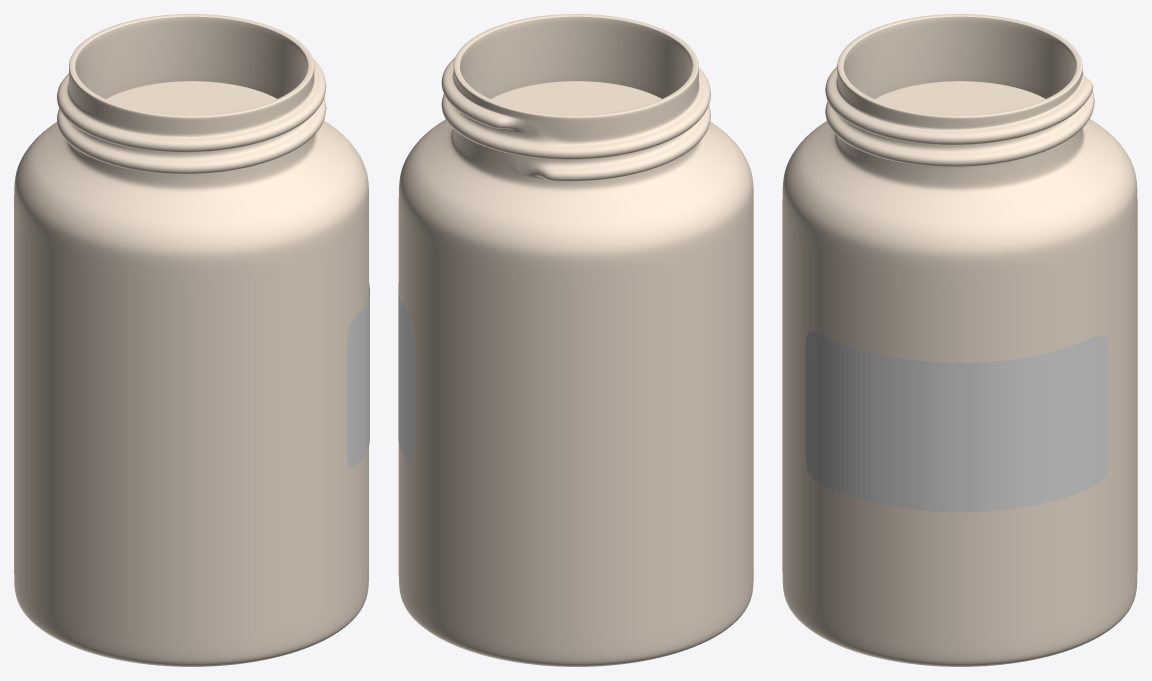
File: container_fenolftaleina_full.fbx
3 renders of one model, left to right at view 1: azimuth 30°, elevation 25°; view 2: azimuth 150°, elevation 25°; view 3: azimuth 270°, elevation 25°, orthographic.
Parts seen in each view (by area): view 1: Vial - Scintillation - 20 mL, Vial - Scintillation - 20 mL.002, Plane; view 2: Vial - Scintillation - 20 mL, Vial - Scintillation - 20 mL.002, Plane; view 3: Vial - Scintillation - 20 mL, Plane, Vial - Scintillation - 20 mL.002.
Boxes of the visible parts, <box> form: Vial - Scintillation - 20 mL: <box>14,14,368,666</box>; Vial - Scintillation - 20 mL.002: <box>106,81,276,114</box>; Plane: <box>347,283,369,468</box>; Vial - Scintillation - 20 mL: <box>398,14,753,666</box>; Vial - Scintillation - 20 mL.002: <box>491,81,661,114</box>; Plane: <box>398,283,414,464</box>; Vial - Scintillation - 20 mL: <box>782,14,1137,666</box>; Plane: <box>805,331,1108,512</box>; Vial - Scintillation - 20 mL.002: <box>874,81,1045,114</box>.
Bounding box in the file's own units: 155 × 255 × 154.
